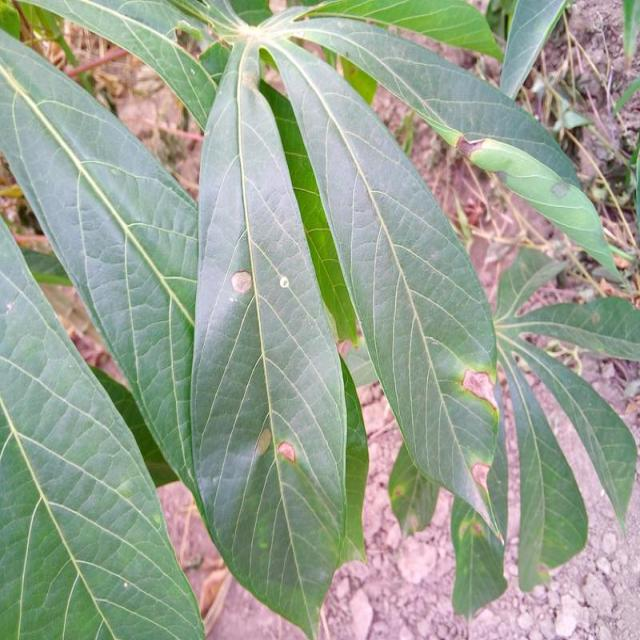cassava leaf: (1, 1, 637, 637), (256, 29, 506, 540), (188, 35, 368, 637), (0, 25, 202, 519), (0, 211, 206, 638)
